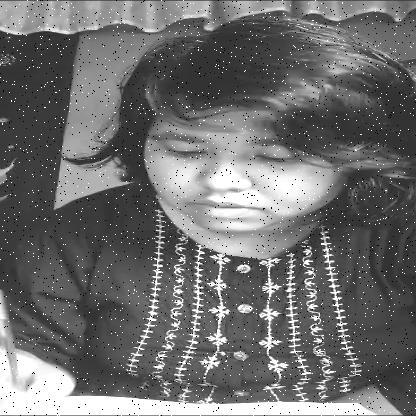Normal: (124, 94, 360, 230)
